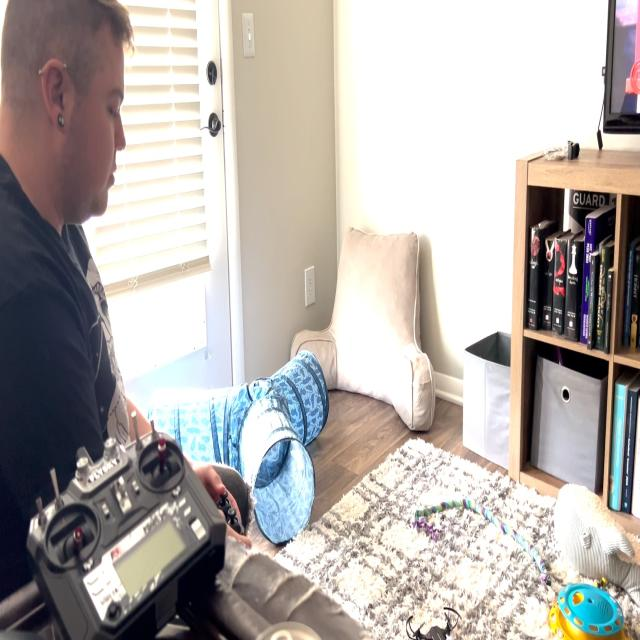drone: (400, 596, 464, 640)
